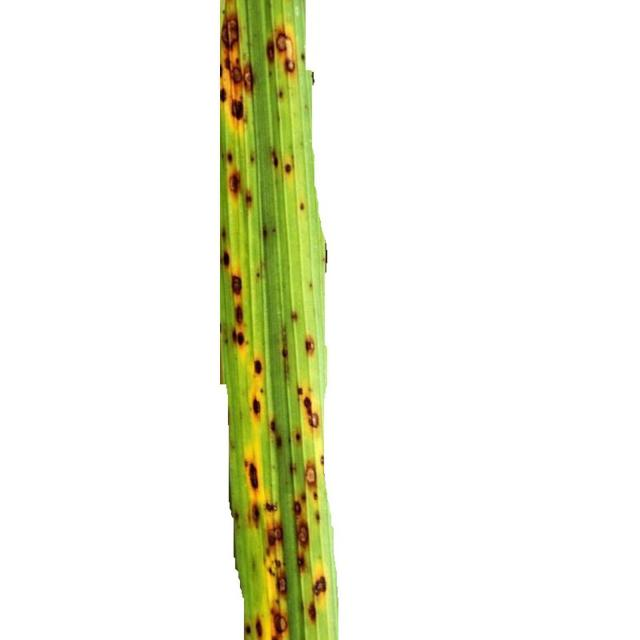Brown spot: (203, 0, 352, 639)
